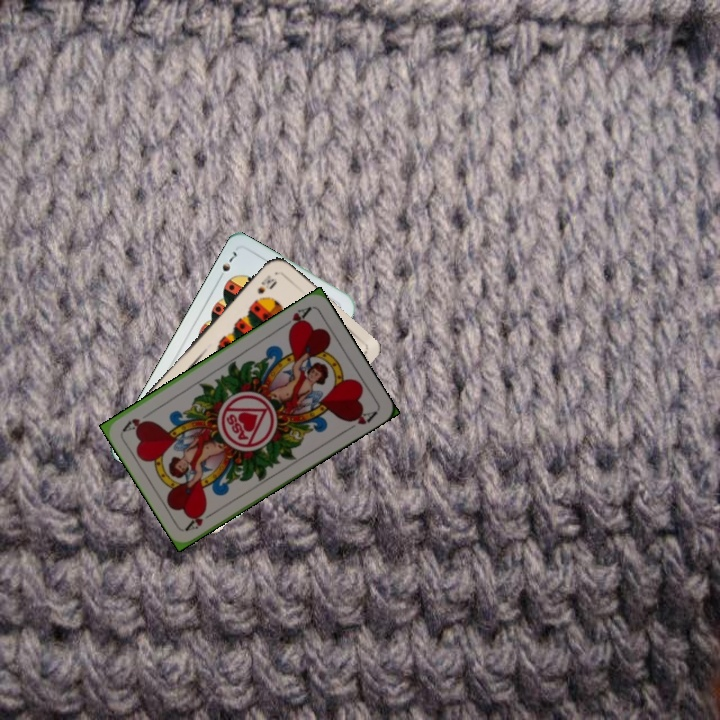HA: (278, 302, 314, 333), (182, 506, 219, 533)
S10: (253, 270, 277, 297)
S7: (214, 247, 241, 283)
